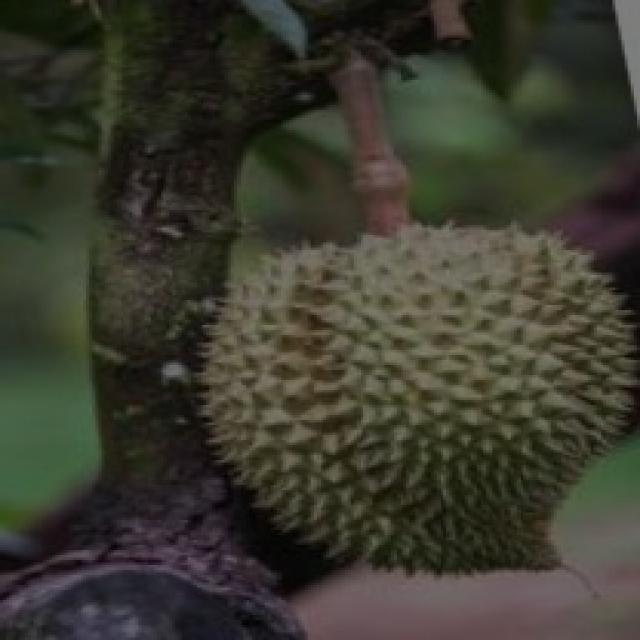fruit: (243, 170, 640, 590)
